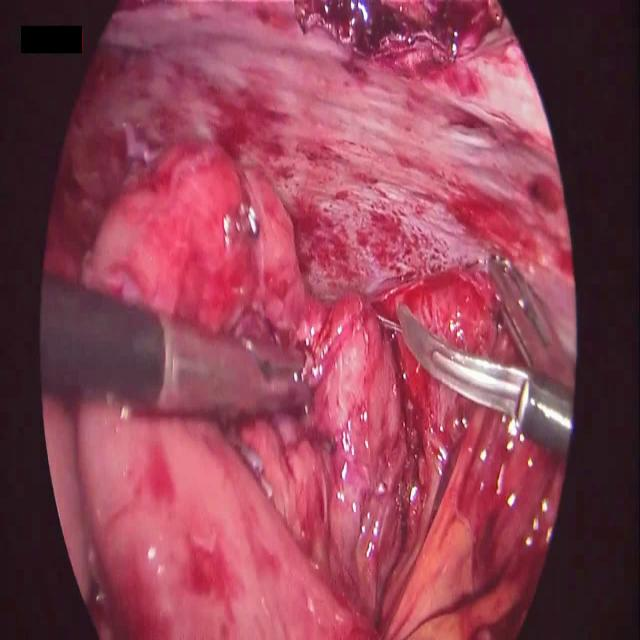surgical-area: (40, 0, 577, 639)
surgical-tool: (42, 272, 317, 427), (394, 298, 576, 461)
